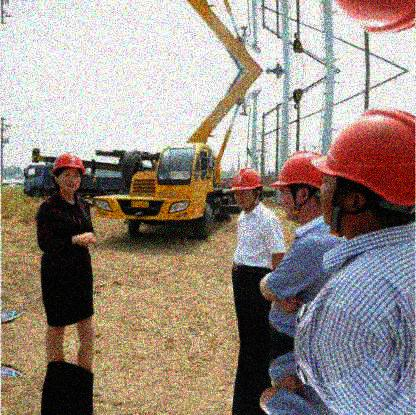helmet: (315, 109, 416, 229), (271, 151, 323, 223), (51, 152, 84, 194), (230, 167, 262, 209)
